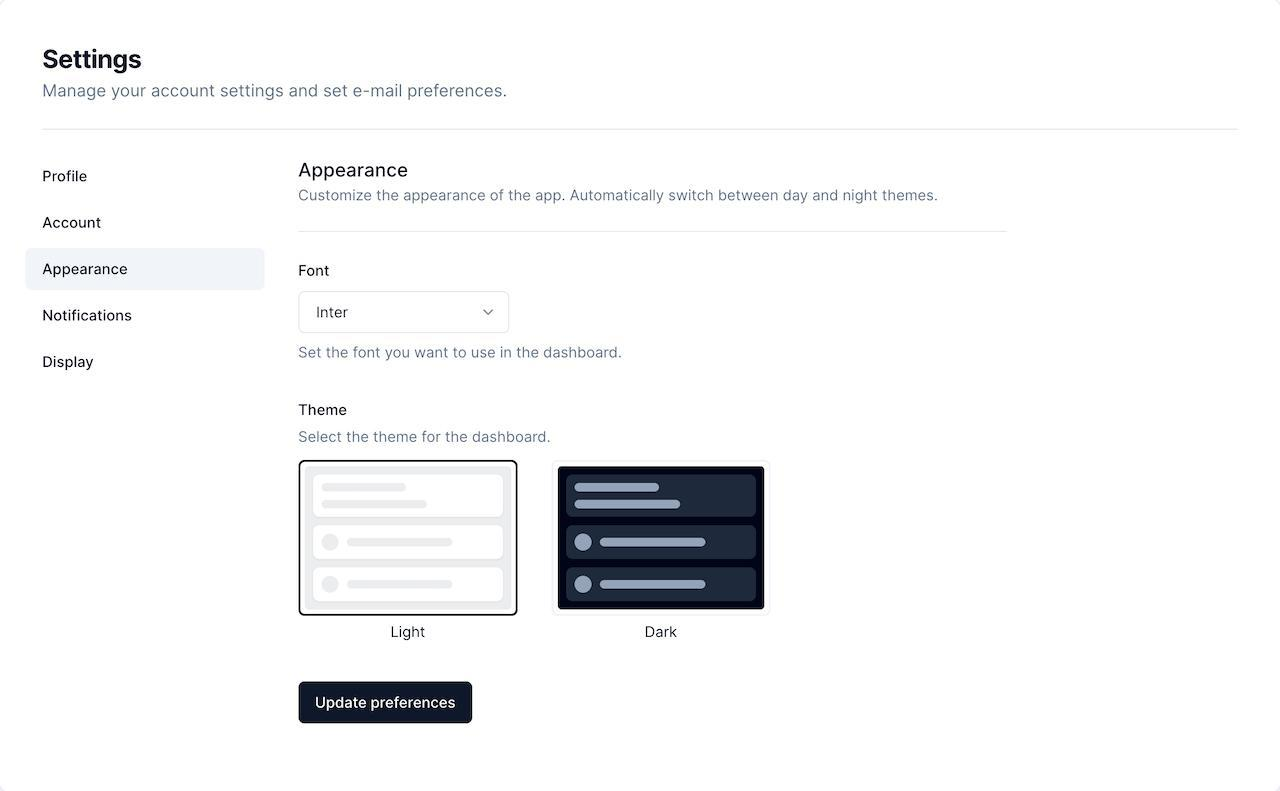button: (26, 249, 265, 291), (299, 682, 475, 725)
dropdown: (299, 291, 511, 334)
label: (293, 159, 412, 181), (44, 47, 143, 72), (40, 307, 133, 328), (41, 214, 105, 233), (38, 354, 97, 374), (39, 166, 88, 186), (300, 403, 349, 418), (386, 626, 430, 641), (642, 624, 679, 641), (297, 265, 331, 279)
